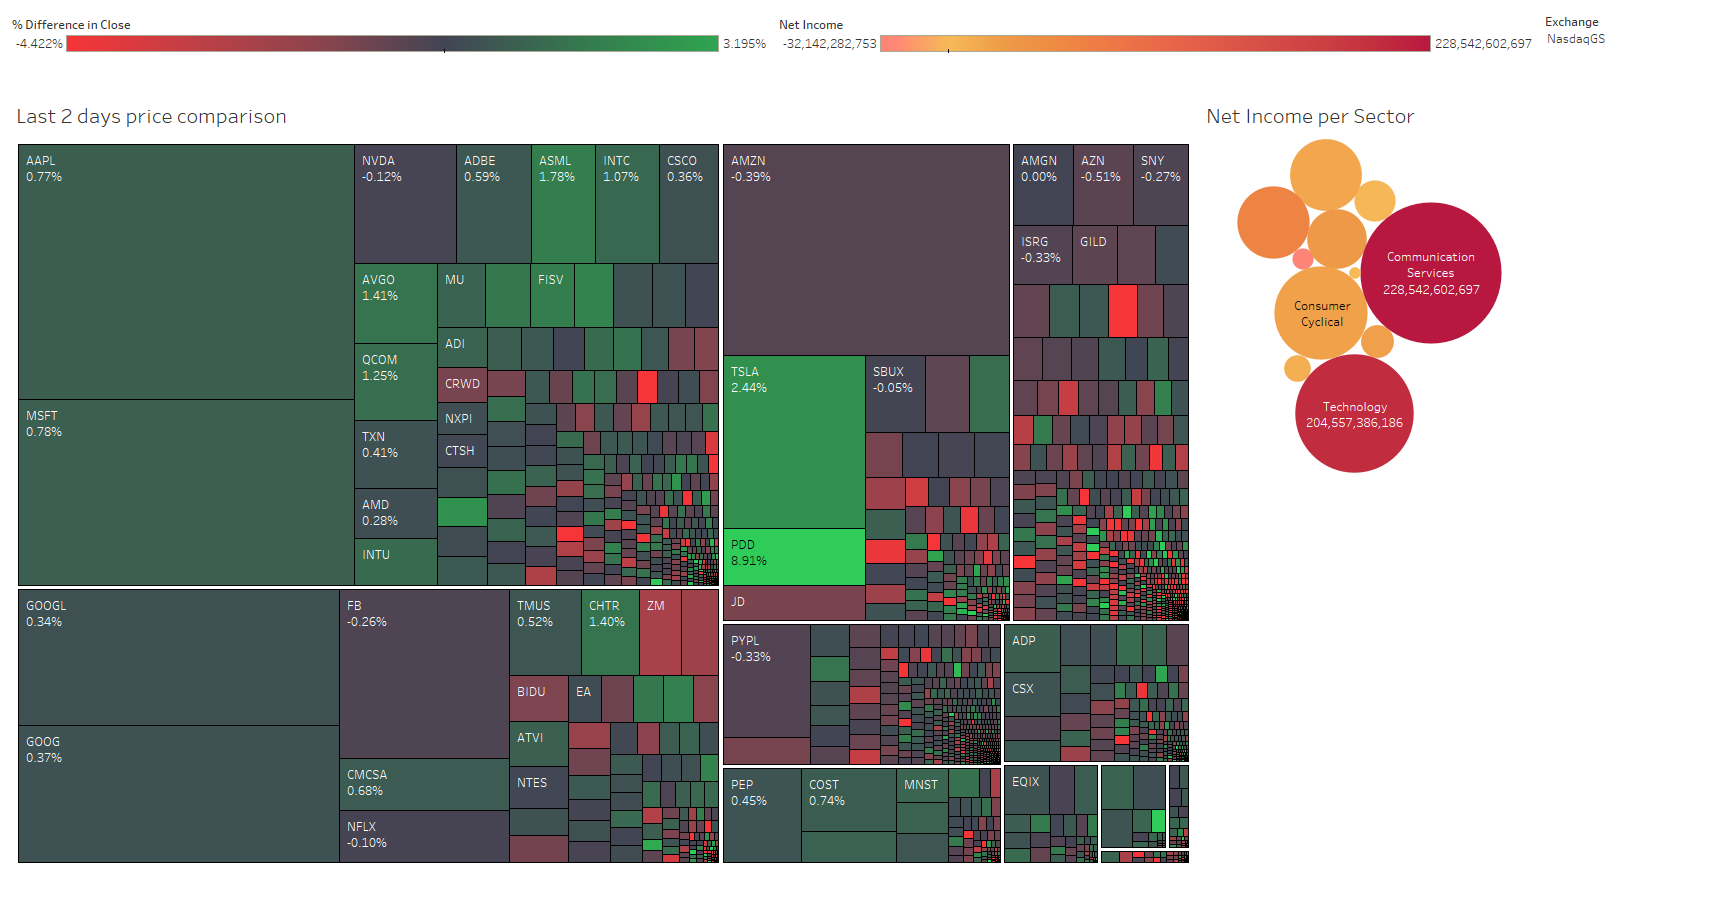

What the dashboard file says about the page in this screenshot:
{"tool":"tableau","page":{"name":"Exchange Dashboard","canvas":[1000,1000],"units":"permille","ordinal":0},"visuals":[{"type":"worksheet","box":[0,0,1000,1000]},{"type":"worksheet","param":"horz","box":[4.7,8.8,990.6,982.3]},{"type":"worksheet","param":"horz","box":[4.7,8.8,897,982.3]},{"type":"worksheet","box":[4.7,8.8,897,982.3]},{"type":"worksheet","title":"Compare Close prices for NYSE companies","mark":"Automatic","param":"[federated.11cnzon1q1xlc114ybf3j12kicml].[pcdf:sum:Close:qk:2]","box":[4.7,8.8,448.5,91.8]},{"type":"worksheet","title":"Sector Bubble Comparison","mark":"Circle","param":"[federated.11cnzon1q1xlc114ybf3j12kicml].[sum:netIncome:qk]","box":[453.2,8.8,448.5,91.8]},{"type":"worksheet","param":"vert","box":[901.7,8.8,93.6,982.3]},{"type":"worksheet","title":"Sector Bubble Comparison","mark":"Circle","param":"[federated.11cnzon1q1xlc114ybf3j12kicml].[none:Exchange:nk]","box":[901.7,8.8,93.6,57.5]},{"type":"worksheet","param":"horz","box":[4.7,100.7,897,890.5]},{"type":"worksheet","box":[4.7,100.7,897,890.5]},{"type":"worksheet","title":"Compare Close prices for NYSE companies","mark":"Automatic","box":[4.7,100.7,696.3,890.5]},{"type":"worksheet","title":"Sector Bubble Comparison","mark":"Circle","box":[701,100.7,200.7,890.5]}]}

Visuals, with their boxes on the dashboard's canvas, which has no fixed pixel size, in thousandths of its width and height (x1, y1, x2, y2). These are canvas units, not pixel positions in the 1709x904 screenshot, which may show the page scaled, cropped or inside an application window:
worksheet: [0,0,1000,1000]
worksheet: [5,9,995,991]
worksheet: [5,9,902,991]
worksheet: [5,9,902,991]
"Compare Close prices for NYSE companies" worksheet: [5,9,453,101]
"Sector Bubble Comparison" worksheet (Circle marks): [453,9,902,101]
worksheet: [902,9,995,991]
"Sector Bubble Comparison" worksheet (Circle marks): [902,9,995,66]
worksheet: [5,101,902,991]
worksheet: [5,101,902,991]
"Compare Close prices for NYSE companies" worksheet: [5,101,701,991]
"Sector Bubble Comparison" worksheet (Circle marks): [701,101,902,991]
